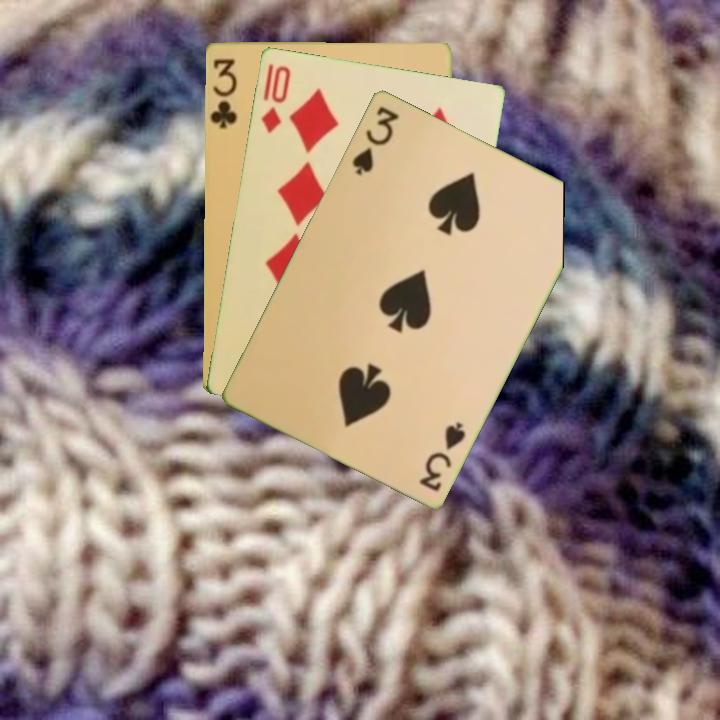10d: (257, 61, 294, 136)
3c: (206, 54, 240, 130)
3s: (348, 102, 402, 178), (415, 417, 468, 494)
